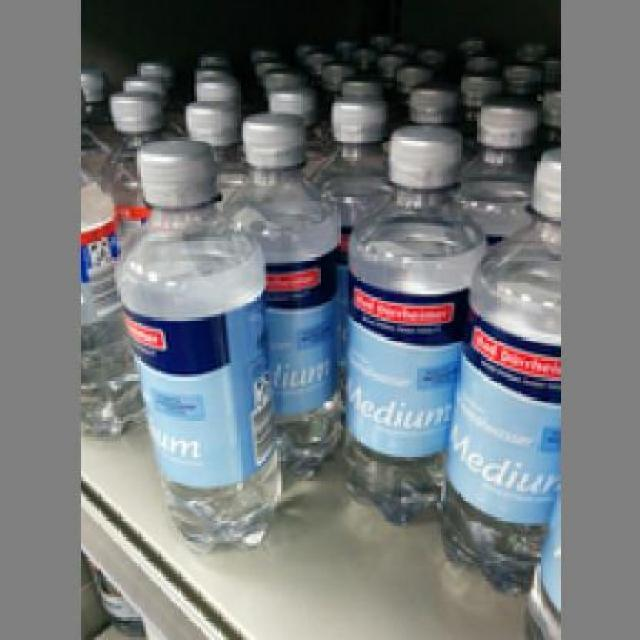Water: (112, 137, 280, 557), (334, 123, 480, 523), (437, 143, 557, 583), (229, 108, 337, 474)
